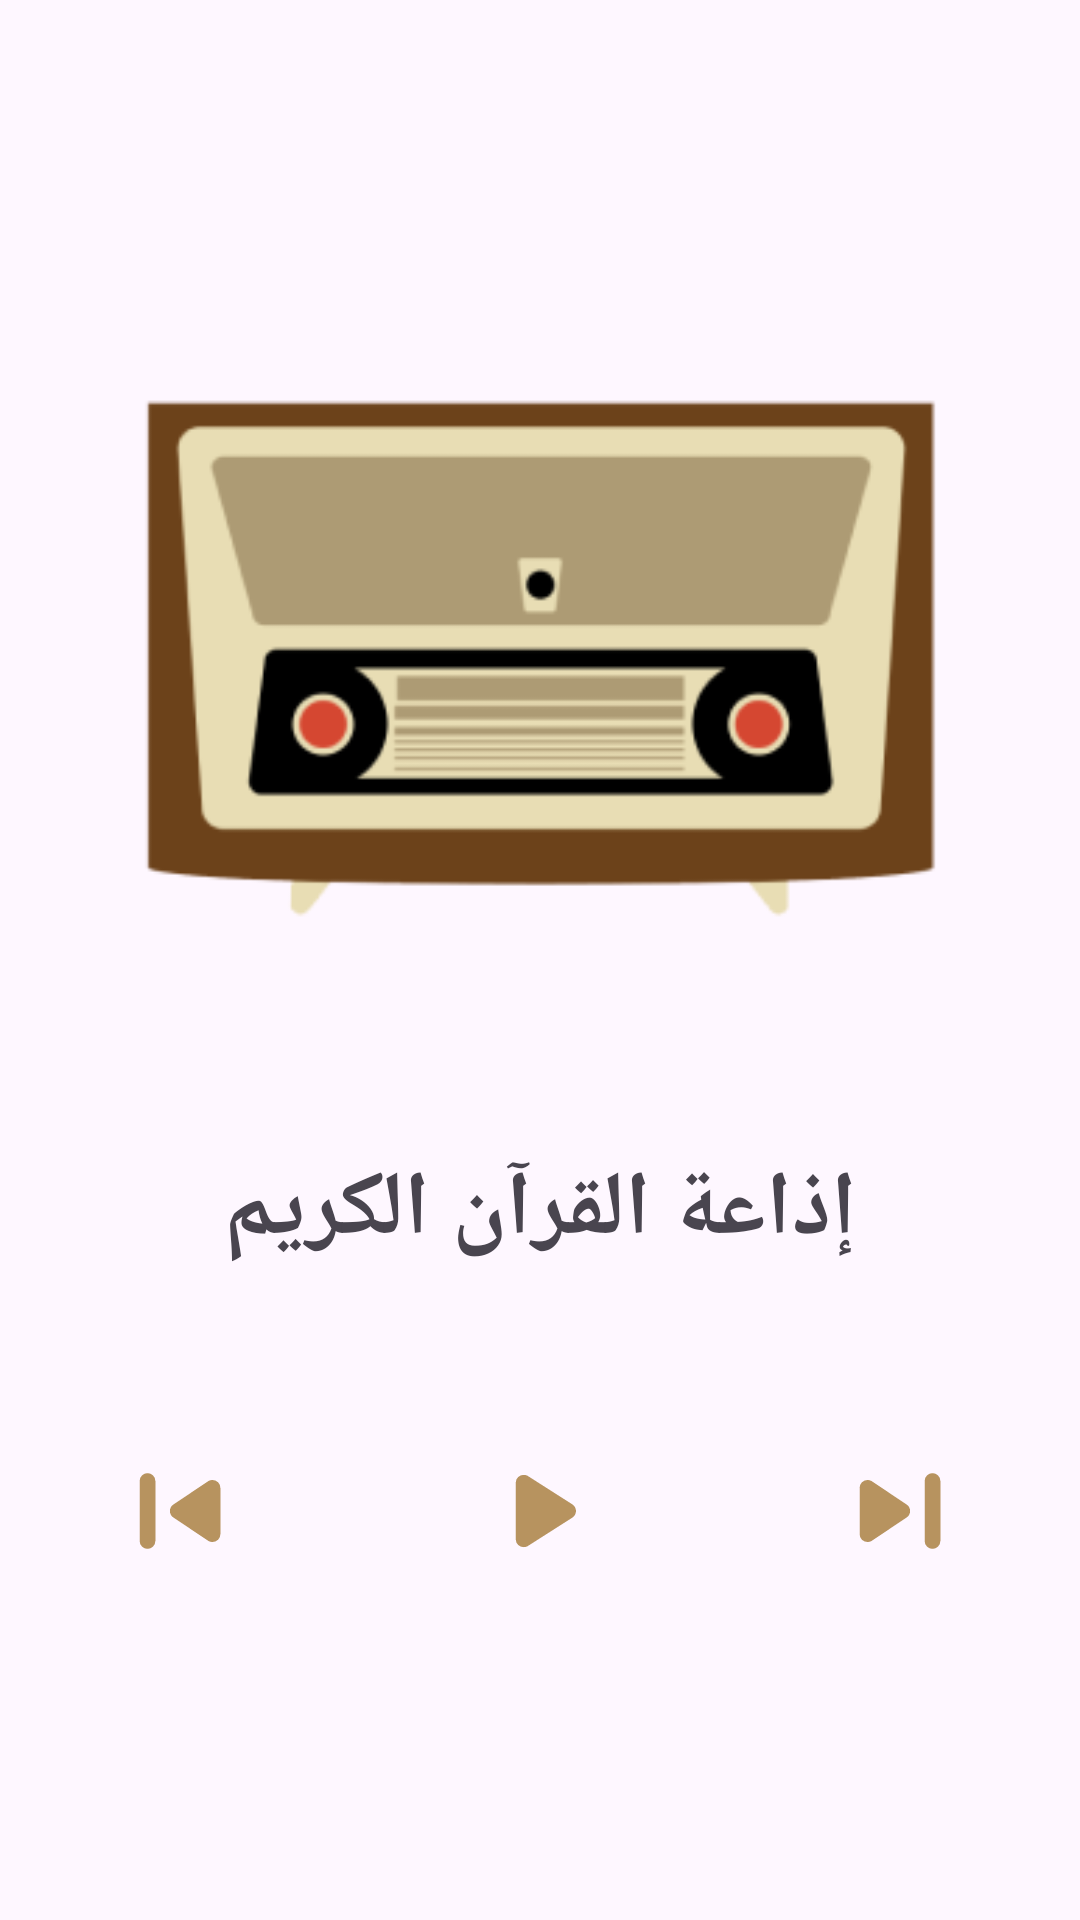

Icons on this 1080×1920 Android screen, each with its box as box(x1, y1, x2, y2):
play arrow: box(515, 1475, 576, 1547)
skip next: box(859, 1473, 941, 1549)
skip previous: box(139, 1473, 221, 1549)
